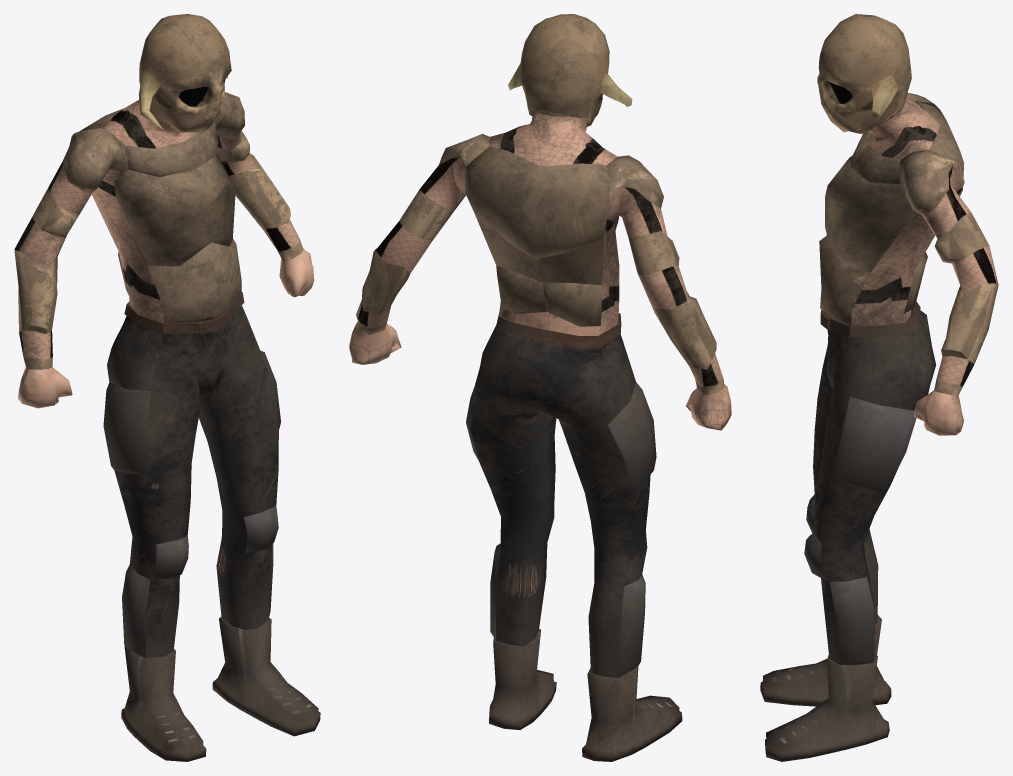
Rendered from Anim_recibirdanyo_npc1.0026.obj.
3 views of the same model, side by side, from view 1: azimuth 30°, elevation 25°; view 2: azimuth 150°, elevation 25°; view 3: azimuth 270°, elevation 25° (orthographic). The views are drawn at different scales.
Parts seen in each view (by area): view 1: NPC2; view 2: NPC2; view 3: NPC2.
Part boxes in pixels (<box>): NPC2: <box>14,14,320,761</box>; NPC2: <box>349,14,731,761</box>; NPC2: <box>760,14,998,761</box>.
Size of the model in its own units: 4.66 by 9.5 by 2.93.
